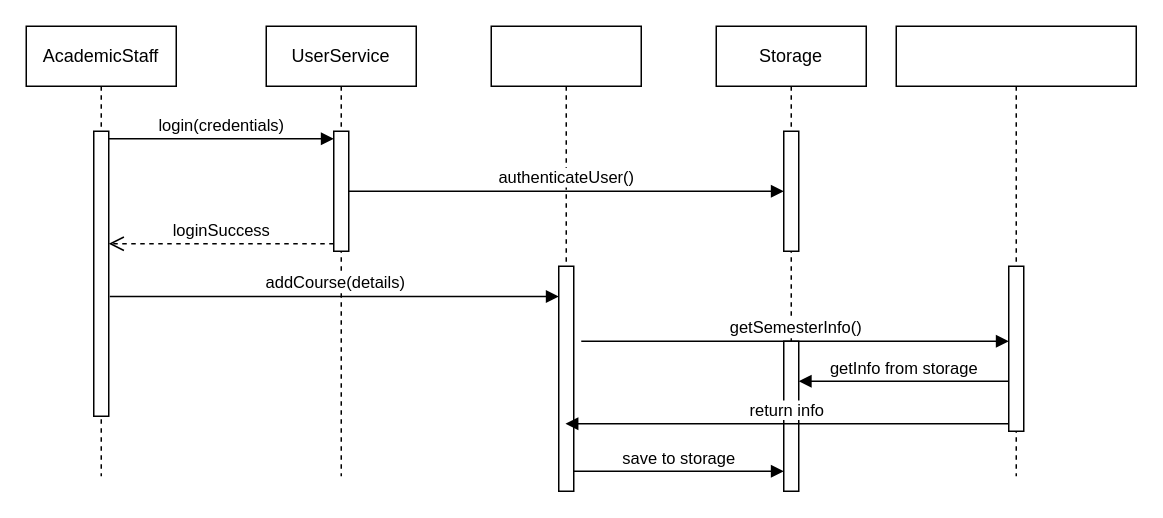
This 1163x518 diagram has some shape labels left out. The shapes that lost their labels are listed below. From the top down, each one's box as (x1, y1, x2, y2) in pixels, then its label:
(490, 25, 641, 491): CourseService
(895, 25, 1136, 476): SchoolManagementService
